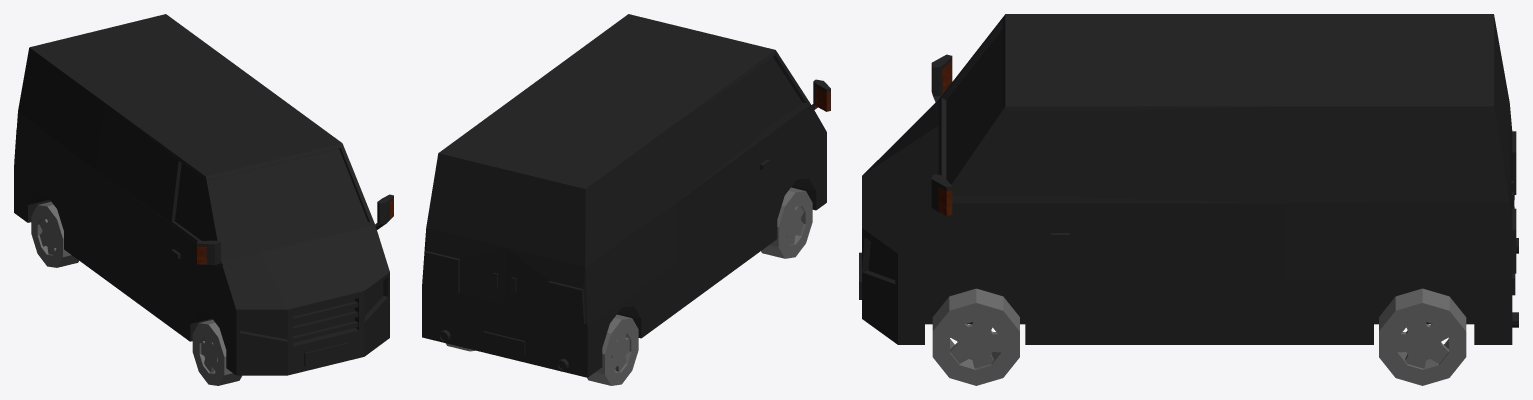
The model's file is tem_van.glb.
3 views of the same model, side by side, from view 1: azimuth 30°, elevation 25°; view 2: azimuth 150°, elevation 25°; view 3: azimuth 270°, elevation 25° (orthographic). The views are drawn at different scales.
Visible parts, largest first — view 1: Van, Van wheel front right, Van wheel rear right; view 2: Van, Van wheel rear right, Van wheel front right; view 3: Van, Van wheel front left, Van wheel rear left.
Part boxes in pixels (x1,y1,x2,y2): Van: (14, 14, 393, 375); Van wheel front right: (192, 319, 241, 385); Van wheel rear right: (31, 201, 78, 267); Van: (422, 14, 830, 377); Van wheel rear right: (587, 314, 638, 385); Van wheel front right: (761, 187, 812, 258); Van: (859, 14, 1518, 344); Van wheel front left: (932, 288, 1019, 385); Van wheel rear left: (1379, 288, 1466, 385).
Bounding box in the file's own units: 2.81 × 2.71 × 5.91.
Materials: 2 (1 with a texture image).
